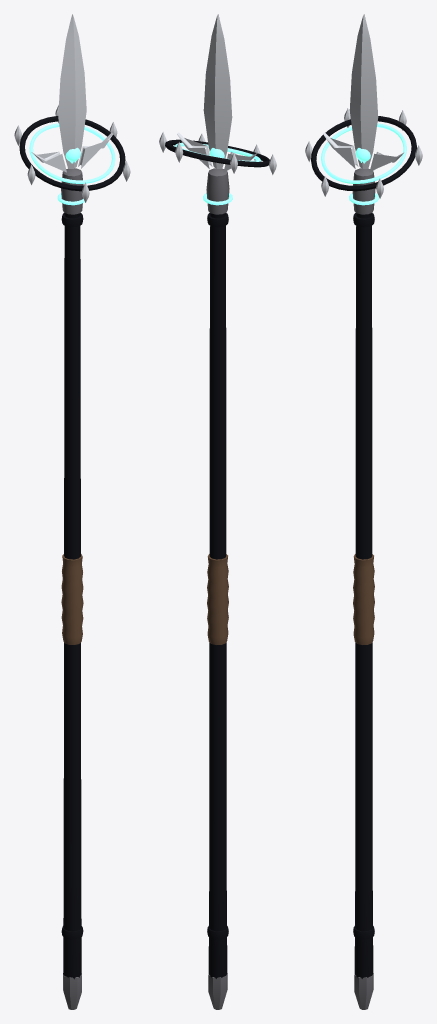
Rendered from esc_w_ranger_spear_9.glb.
3 views of the same model, side by side, from view 1: azimuth 30°, elevation 25°; view 2: azimuth 150°, elevation 25°; view 3: azimuth 330°, elevation 25° (orthographic).
Visible parts, largest first — view 1: esc_w_ranger_spear_9; view 2: esc_w_ranger_spear_9; view 3: esc_w_ranger_spear_9.
Part boxes in pixels (x1=…): esc_w_ranger_spear_9: x1=14, y1=14, x2=130, y2=1009; esc_w_ranger_spear_9: x1=159, y1=14, x2=276, y2=1009; esc_w_ranger_spear_9: x1=305, y1=14, x2=422, y2=1009.
Size of the model in its own units: 0.2523 by 2.33 by 0.2382.
